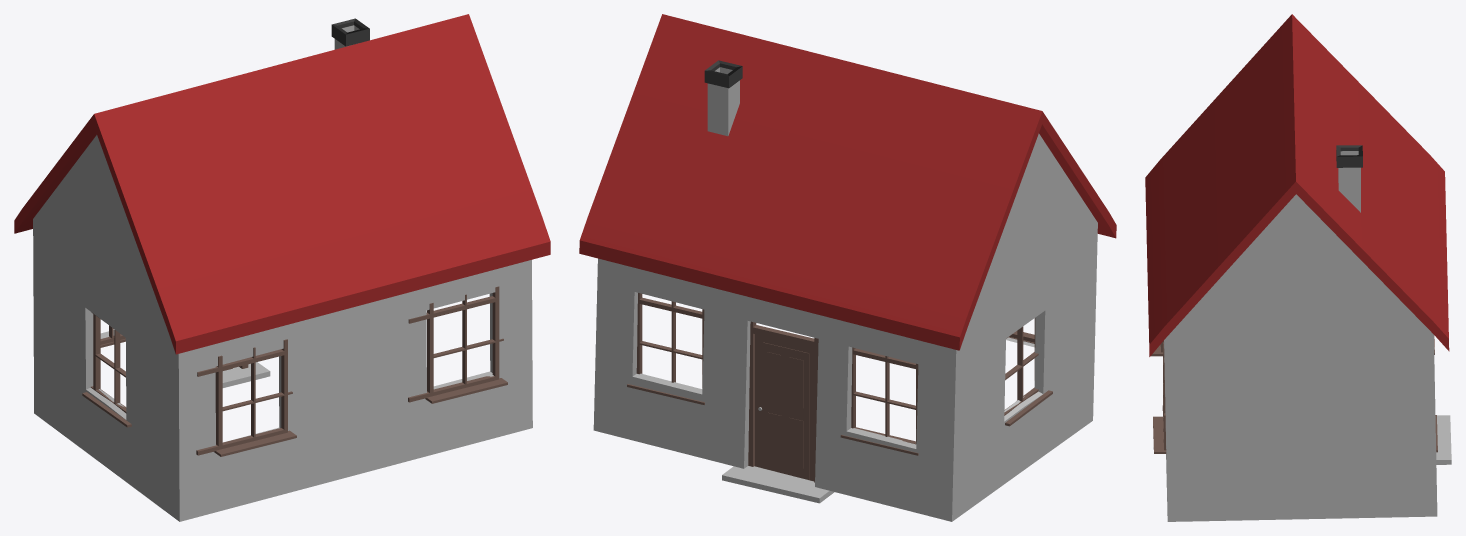
Rendered from House.glb.
3 renders of one model, left to right at view 1: azimuth 30°, elevation 25°; view 2: azimuth 150°, elevation 25°; view 3: azimuth 270°, elevation 25°, orthographic. The views are drawn at different scales.
Parts seen in each view (by area): view 1: Box001, Box003, Box040, Box019, Box029, Box022, Box027, Box020; view 2: Box001, Box039, Plane006, Box040, Box002, Box032, Box003, Box036, Box038, Box035, Box037, Box034; view 3: Box001, Box002, Box040, Box003, Box022.
Part boxes in pixels (x1,y1,x2,y2): Box001: [14, 14, 550, 521]; Box003: [331, 18, 369, 46]; Box040: [222, 362, 270, 387]; Box019: [492, 286, 499, 380]; Box029: [214, 430, 296, 456]; Box022: [425, 378, 507, 403]; Box027: [215, 355, 222, 446]; Box020: [427, 303, 433, 396]; Box001: [579, 14, 1116, 521]; Box039: [763, 342, 809, 479]; Plane006: [755, 334, 814, 481]; Box040: [722, 466, 834, 503]; Box002: [707, 67, 739, 136]; Box032: [748, 321, 756, 466]; Box003: [704, 60, 742, 88]; Box036: [789, 357, 803, 407]; Box038: [767, 412, 781, 463]; Box035: [767, 352, 781, 402]; Box037: [789, 418, 803, 468]; Box034: [750, 325, 817, 348]; Box001: [1145, 14, 1449, 521]; Box002: [1338, 151, 1360, 212]; Box040: [1436, 415, 1451, 464]; Box003: [1336, 145, 1362, 167]; Box022: [1153, 416, 1166, 453].
Bounding box in the file's own units: 106 × 99.86 × 78.6.
